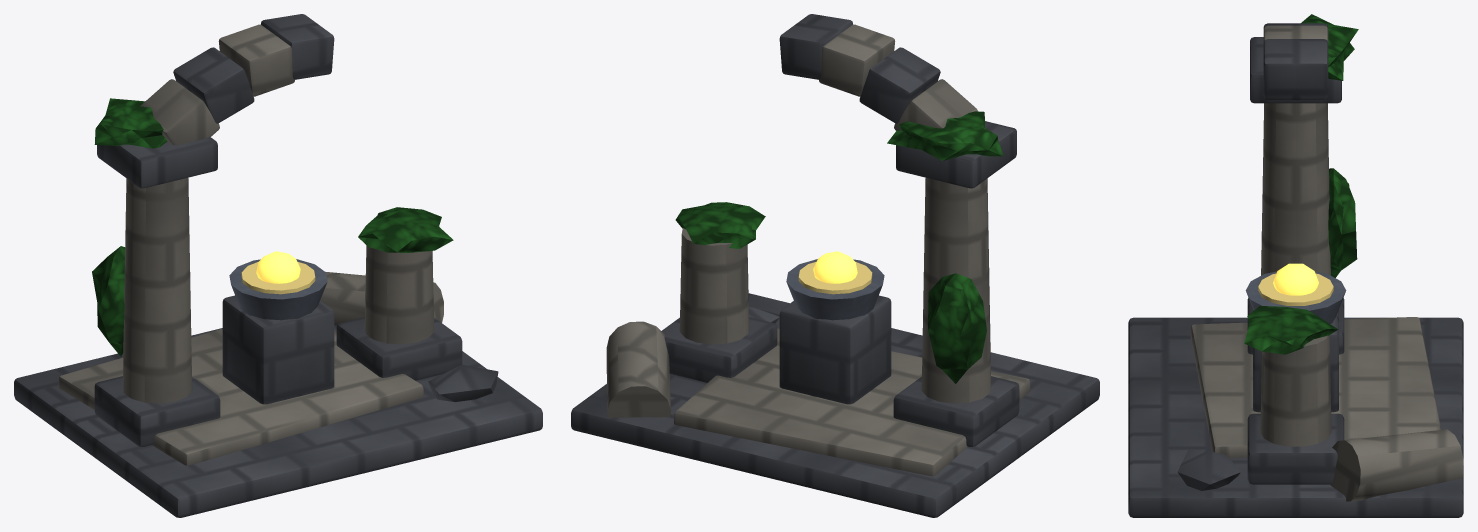
The model's file is prop_ruins_arch.glb.
3 renders of one model, left to right at view 1: azimuth 30°, elevation 25°; view 2: azimuth 150°, elevation 25°; view 3: azimuth 270°, elevation 25°, orthographic.
Visible parts, largest first — view 1: prop_ruins_arch; view 2: prop_ruins_arch; view 3: prop_ruins_arch.
Boxes of the visible parts, <box> form: prop_ruins_arch: <box>14,14,542,517</box>; prop_ruins_arch: <box>571,14,1099,517</box>; prop_ruins_arch: <box>1128,14,1463,517</box>.
Bounding box in the file's own units: 4.25 × 4.11 × 3.2.
Materials: 6 (4 with a texture image).
